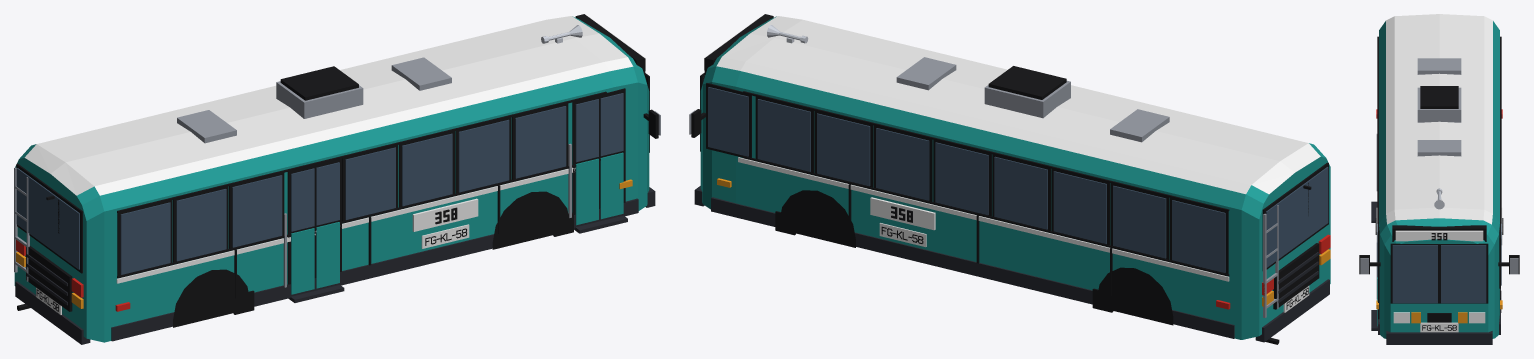
The model's file is micro_turquesa_body.obj.
3 views of the same model, side by side, from view 1: azimuth 30°, elevation 25°; view 2: azimuth 150°, elevation 25°; view 3: azimuth 270°, elevation 25° (orthographic). The views are drawn at different scales.
Visible parts, largest first — view 1: micro_turquesa_body; view 2: micro_turquesa_body; view 3: micro_turquesa_body.
Part boxes in pixels (bbox=[...]): micro_turquesa_body: bbox=[14, 14, 660, 344]; micro_turquesa_body: bbox=[689, 14, 1330, 344]; micro_turquesa_body: bbox=[1359, 14, 1519, 344].
Size of the model in its own units: 10.8 by 3.2 by 3.32.
